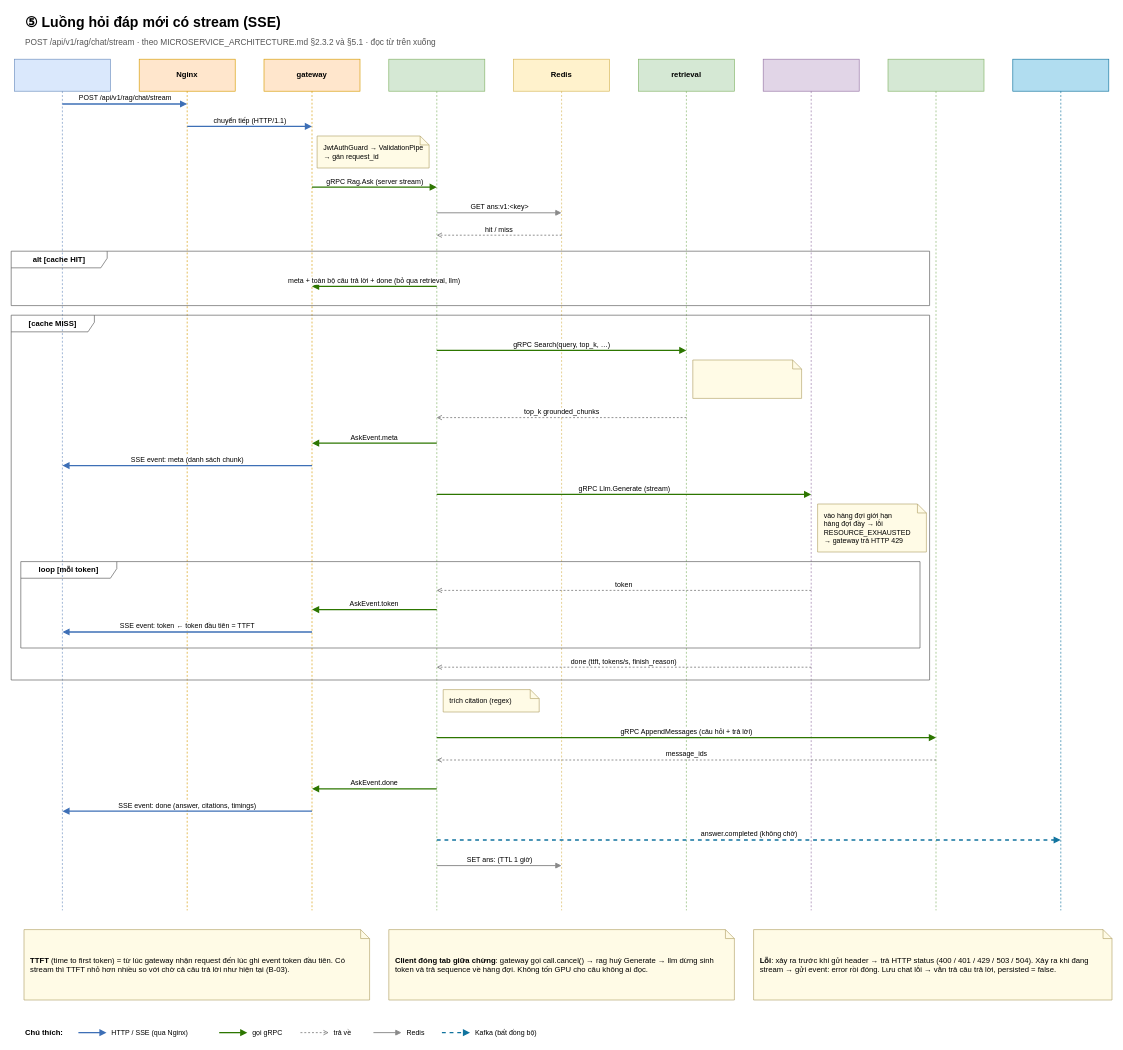
The diagram is 1123 pixels wide and 1050 high, and some of its shapes have lost their labels. The shapes that lost their labels are listed below. From the top down, each one's box as (x1, y1, x2, y2) in pixels, then its label:
(692, 359, 802, 398): mở rộng → embed (cache emb:) → Qdrant → rerank
(14, 59, 110, 910): Frontend (Next.js proxy)
(388, 59, 485, 910): rag
(763, 59, 859, 910): llm
(887, 59, 984, 910): chat
(1012, 59, 1109, 910): Kafka
